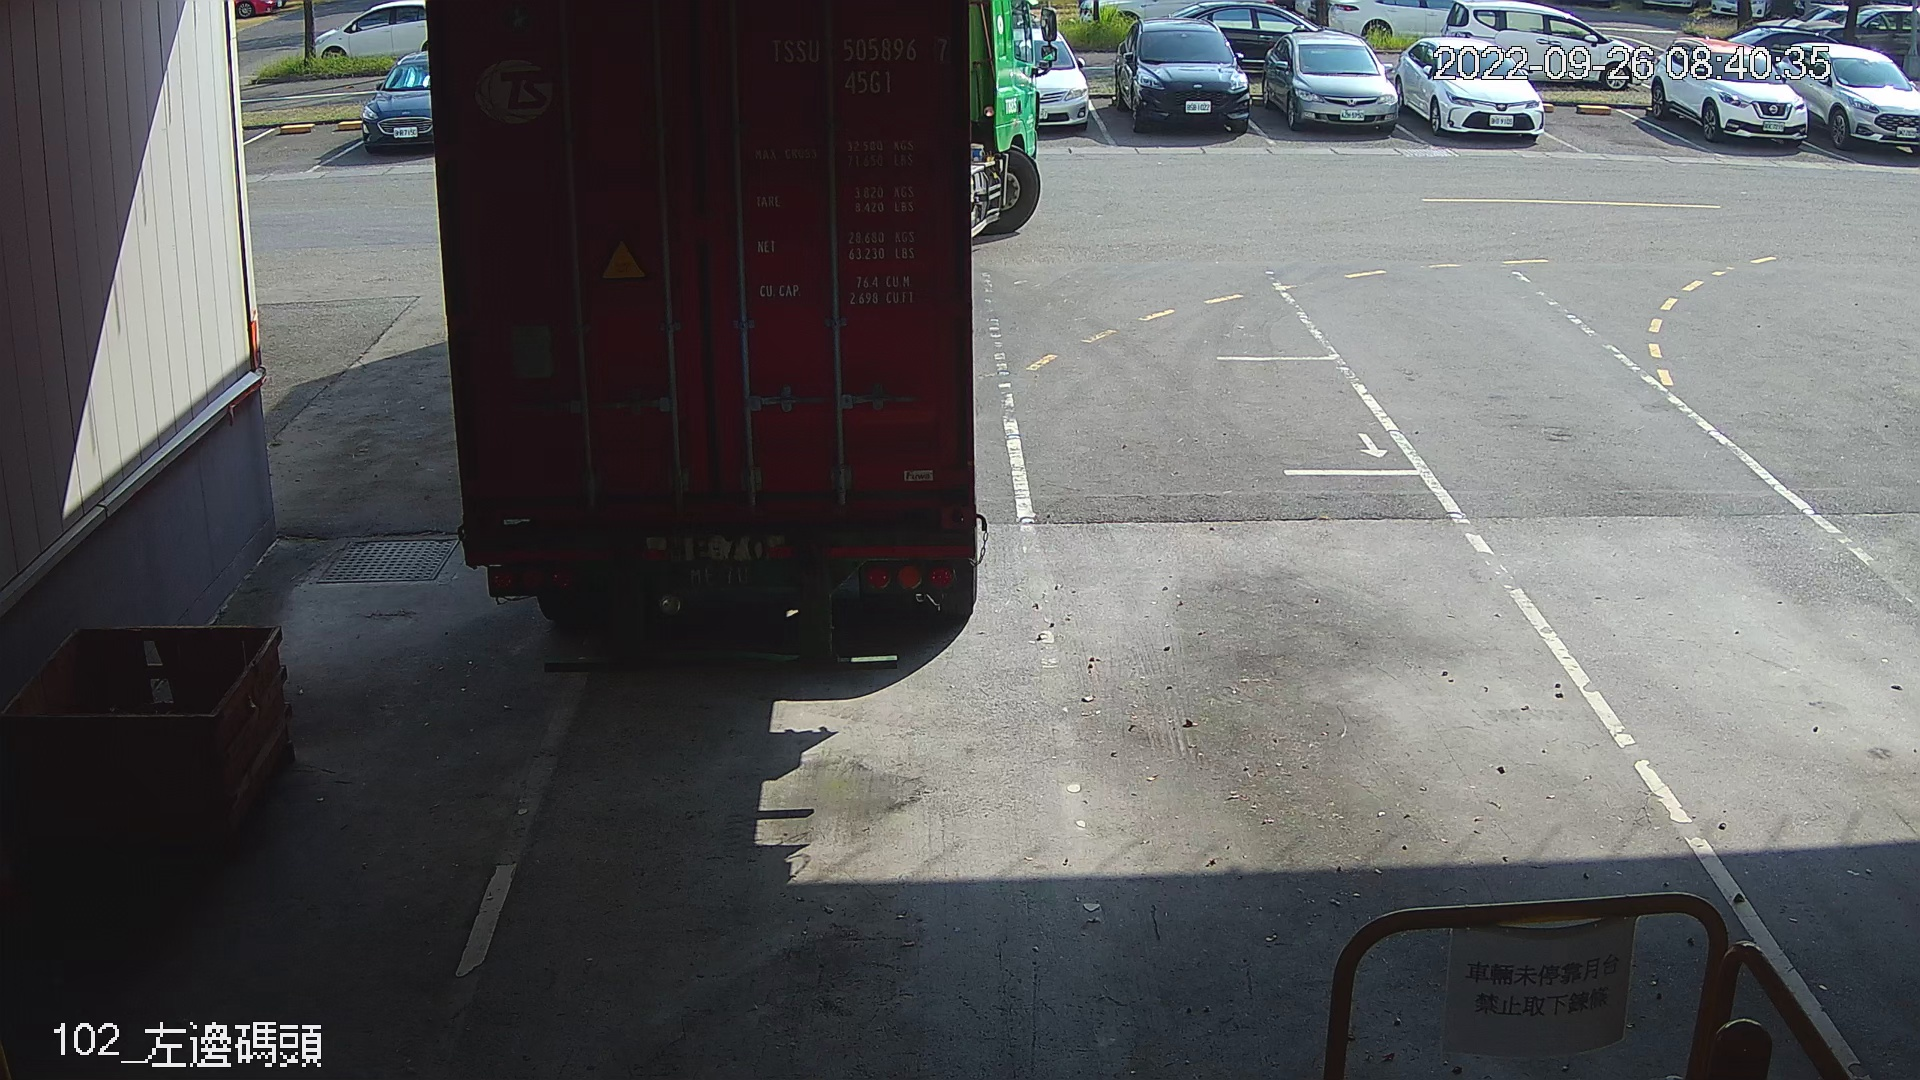container: (757, 26, 959, 105)
